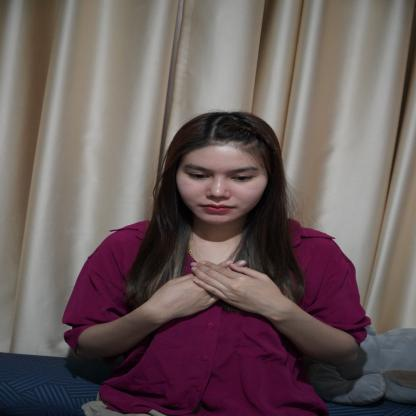Grieve: (122, 256, 311, 322)
